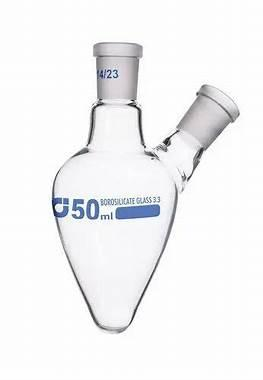Pear shaped flask: (41, 27, 239, 332)
